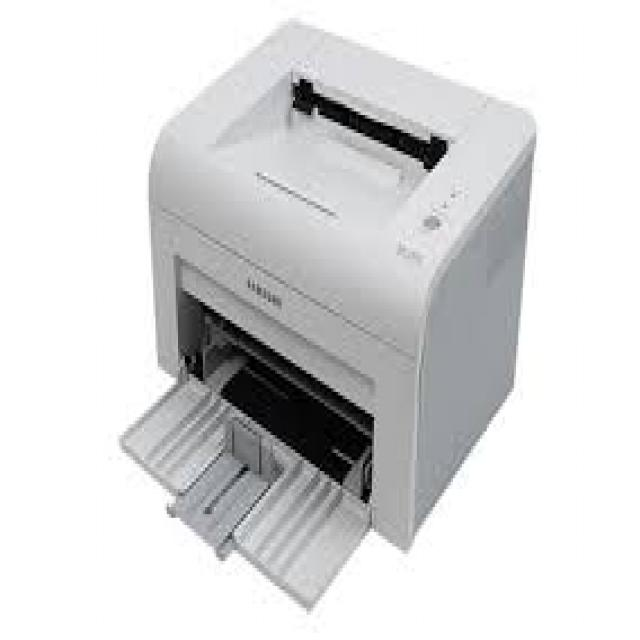printer: (114, 11, 541, 613)
